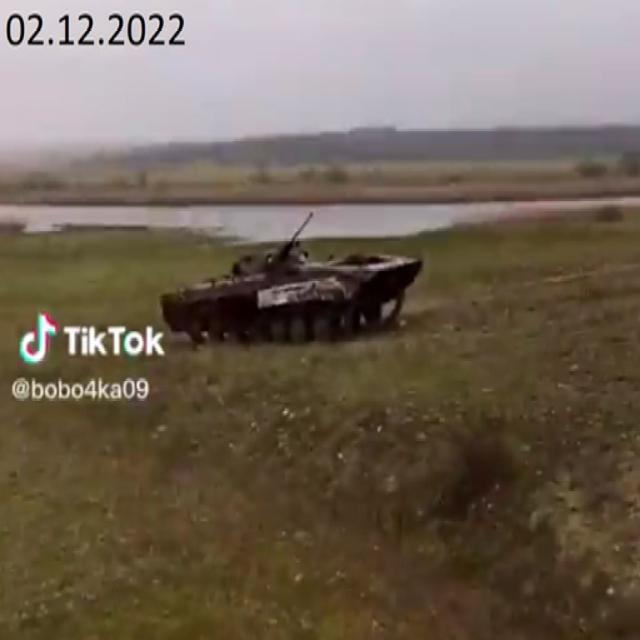APC-IFV: (152, 202, 426, 351)
